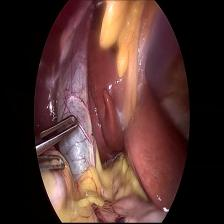Grasper: (35, 111, 80, 179)
